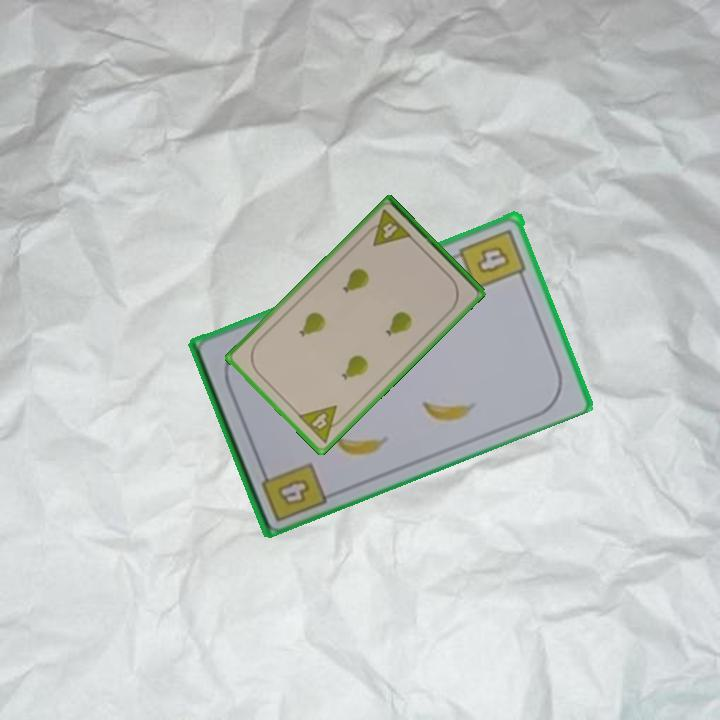4b: (456, 225, 530, 292), (273, 475, 313, 508)
4p: (294, 402, 349, 446), (361, 206, 414, 249)
